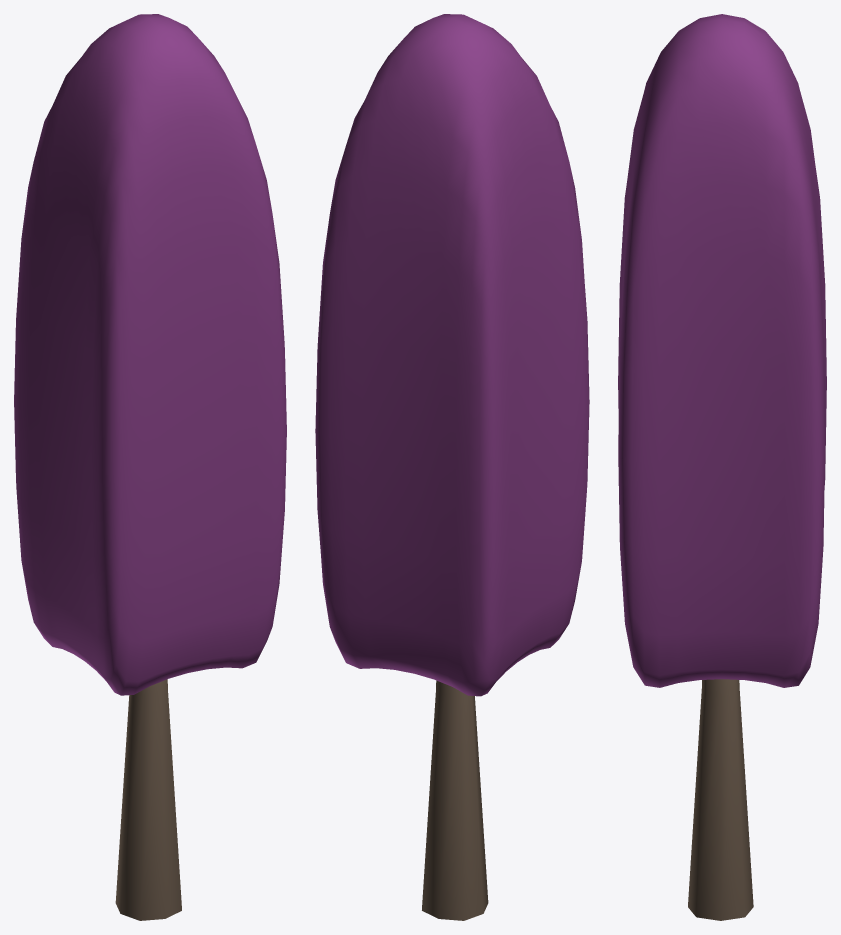
Rendered from shaped_tree_03.fbx.
3 renders of one model, left to right at view 1: azimuth 30°, elevation 25°; view 2: azimuth 150°, elevation 25°; view 3: azimuth 270°, elevation 25°, orthographic.
Visible parts, largest first — view 1: shaped_tree_3; view 2: shaped_tree_3; view 3: shaped_tree_3.
Boxes of the visible parts, bbox=[...] form: shaped_tree_3: bbox=[14, 14, 286, 920]; shaped_tree_3: bbox=[315, 14, 589, 920]; shaped_tree_3: bbox=[618, 14, 826, 920].
Bounding box in the file's own units: 3.91 × 18.08 × 3.85.
